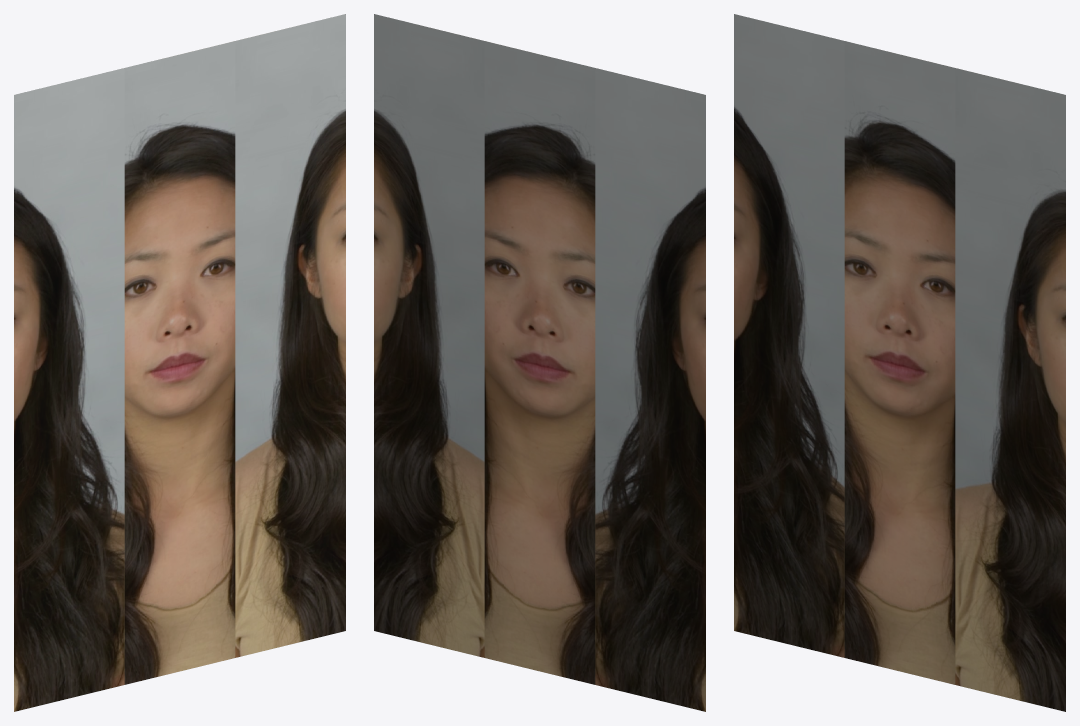
The model's file is UvFuckery2.fbx.
3 views of the same model, side by side, from view 1: azimuth 30°, elevation 25°; view 2: azimuth 150°, elevation 25°; view 3: azimuth 330°, elevation 25° (orthographic).
Visible parts, largest first — view 1: Plane; view 2: Plane; view 3: Plane.
Part boxes in pixels (x1,y1,x2,y2): Plane: (14,14,345,711); Plane: (374,14,705,711); Plane: (734,14,1065,711).
Bounding box in the file's own units: 720 × 1280 × 3.63e-13.
1 material, 1 textured.
